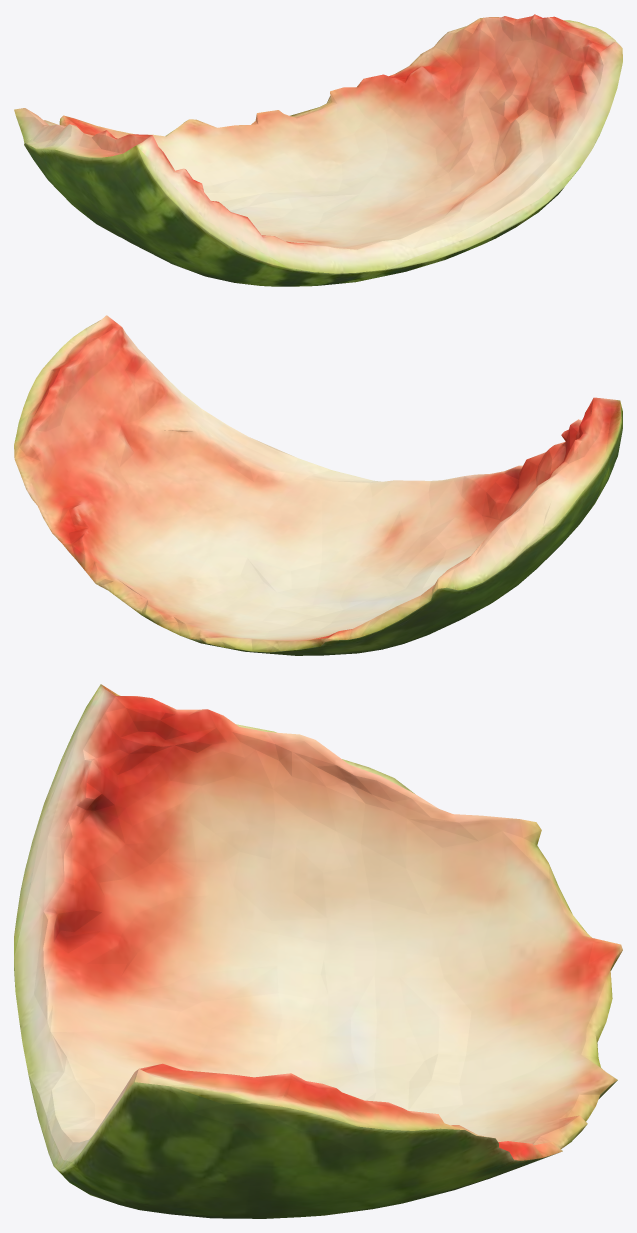
File: watermelon-peel.glb
The picture shows the model from 3 angles, top to bottom: view 1: azimuth 30°, elevation 25°; view 2: azimuth 150°, elevation 25°; view 3: azimuth 270°, elevation 25°; orthographic projection. The views are drawn at different scales.
Parts seen in each view (by area): view 1: model; view 2: model; view 3: model.
Part boxes in pixels (x1=…): model: x1=14, y1=14, x2=622, y2=286; model: x1=14, y1=315, x2=622, y2=655; model: x1=14, y1=684, x2=622, y2=1218.
Size of the model in its own units: 1.2 by 0.4565 by 0.8316.
Materials: 1 (1 with a texture image).
